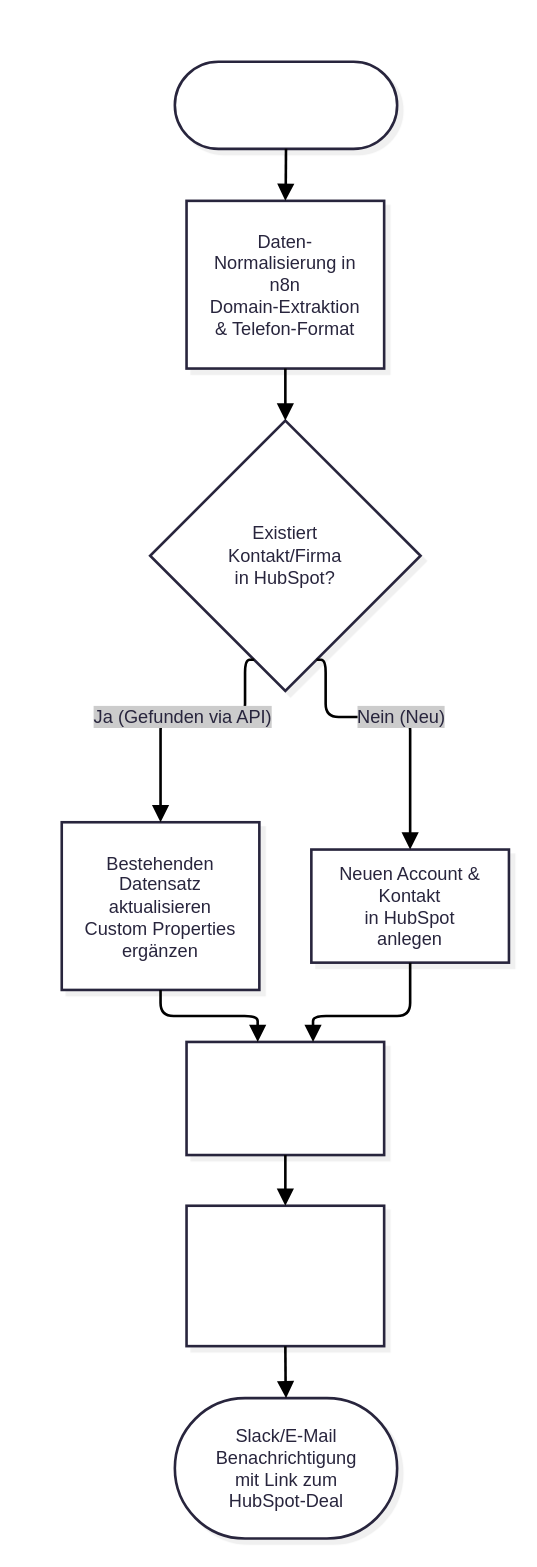
Image size: 537x1567. Some labels were removed from this diagram. Here are the shapes that lost their labels. From the top down, the centre of each, then its label:
At [288,107]: "Neuer Inbound Lead / Webhook".
At [287,1100]: "Deal in Pipeline 'Qualifizierung' erstellen/aktualisieren".
At [287,1278]: "Automatische Follow-up-Aufgabe für Account Executive anlegen".
